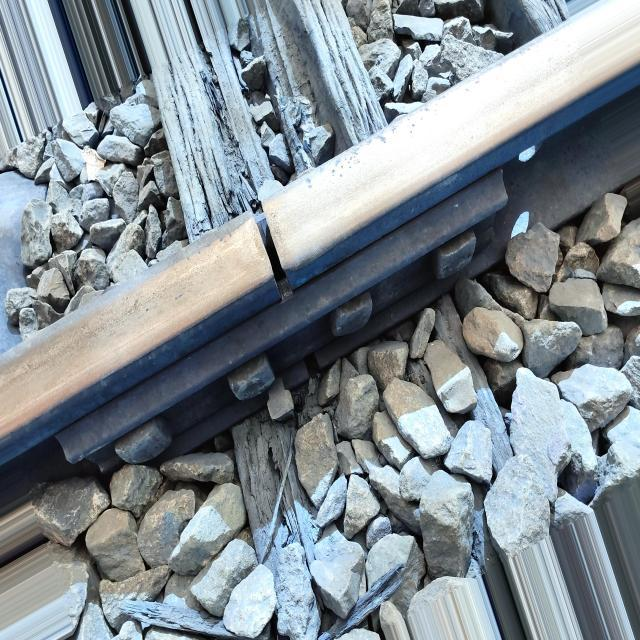Good Fasteners: (267, 377, 294, 422)
Good Joint: (56, 169, 507, 465)
